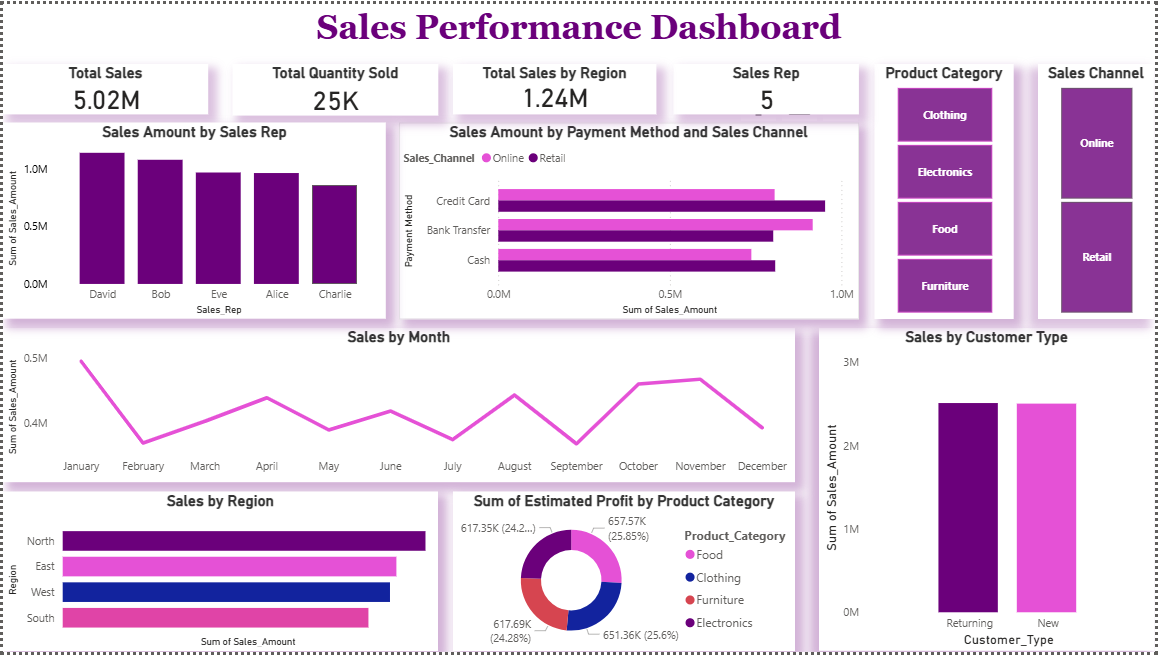

The dashboard page shown, as its layout file describes it:
{"tool":"powerbi","page":{"name":"Page 1","canvas":[1280,720],"ordinal":0},"visuals":[{"type":"lineChart","title":"Sales by Month","fields":{"Category":["sales_data.Sale_Date.Variation.Date Hierarchy.Month"],"Y":["Sum(sales_data.Sales_Amount)"]},"box":[0,360.4,879.8,171.1],"z":0},{"type":"clusteredBarChart","title":"Sales by Region","fields":{"Category":["sales_data.Region"],"Y":["Sum(sales_data.Sales_Amount)"]},"box":[0,542.1,483,177.2],"z":1000},{"type":"donutChart","title":"Sum of Estimated Profit by Product Category","fields":{"Category":["sales_data.Product_Category"],"Y":["Sum(sales_data.Estimated Profit)"]},"box":[499.7,542.1,380.1,177.2],"z":2000},{"type":"columnChart","title":" Sales by Customer Type ","fields":{"Category":["sales_data.Customer_Type"],"Y":["Sum(sales_data.Sales_Amount)"],"Series":["sales_data.Customer_Type"]},"box":[907,360.4,372.5,358.9],"z":3000},{"type":"clusteredBarChart","title":"Sales Amount by Payment Method and Sales Channel","fields":{"Category":["sales_data.Payment Method"],"Y":["Sum(sales_data.Sales_Amount)"],"Series":["sales_data.Sales_Channel"]},"box":[440.6,131.7,510.3,218],"z":4000},{"type":"card","title":"Total Sales","fields":{"Values":["Sum(sales_data.Sales_Amount)"]},"box":[0,66,228,56],"z":5000},{"type":"card","title":"Total Quantity Sold","fields":{"Values":["Sum(sales_data.Quantity_Sold)"]},"box":[254.4,66.6,228.6,57.5],"z":6000},{"type":"slicer","title":"Product Category","fields":{"Values":["sales_data.Product_Category"]},"box":[967.6,66.6,154.4,283.2],"z":7000},{"type":"slicer","title":"Sales Channel","fields":{"Values":["sales_data.Sales_Channel"]},"box":[1150.8,66.6,128.7,283.2],"z":8000},{"type":"columnChart","title":"Sales Amount by Sales Rep ","fields":{"Category":["sales_data.Sales_Rep"],"Y":["Sum(sales_data.Sales_Amount)"],"Series":["sales_data.Sales_Rep"]},"box":[0,131.7,425.5,218],"z":9000},{"type":"card","title":"Sales Rep","fields":{"Values":["Count(sales_data.Sales_Rep)"]},"box":[745,66.6,205.9,56],"z":9001},{"type":"kpi","title":"Total Sales by Region","fields":{"Indicator":["Sum(sales_data.Sales_Amount)"],"TrendLine":["sales_data.Region"]},"box":[500,66,226,56],"z":9002},{"type":"textbox","box":[0,0,1279.5,53],"z":9003}]}

Visuals, with their boxes in screenshot pixels (x1, y1, x2, y2), scaled from the page's 1280x720 canvas onto the 1162x658 screenshot:
"Sales by Month" lineChart: box(0, 329, 799, 486)
"Sales by Region" clusteredBarChart: box(0, 495, 438, 657)
"Sum of Estimated Profit by Product Category" donutChart: box(454, 495, 799, 657)
" Sales by Customer Type " columnChart: box(823, 329, 1161, 657)
"Sales Amount by Payment Method and Sales Channel" clusteredBarChart: box(400, 120, 863, 320)
"Total Sales" card: box(0, 60, 207, 111)
"Total Quantity Sold" card: box(231, 61, 438, 113)
"Product Category" slicer: box(878, 61, 1019, 320)
"Sales Channel" slicer: box(1045, 61, 1161, 320)
"Sales Amount by Sales Rep " columnChart: box(0, 120, 386, 320)
"Sales Rep" card: box(676, 61, 863, 112)
"Total Sales by Region" kpi: box(454, 60, 659, 111)
textbox: box(0, 0, 1161, 48)
